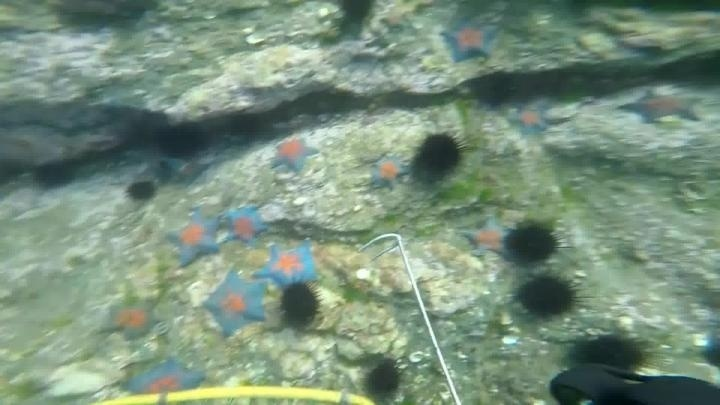echinus: (570, 330, 651, 377), (513, 270, 584, 322), (503, 219, 564, 268), (412, 129, 467, 180), (277, 280, 323, 330), (154, 120, 209, 161), (467, 69, 519, 111), (360, 356, 406, 402), (331, 1, 380, 42), (30, 157, 79, 193), (224, 109, 267, 143), (123, 177, 159, 206)
starfish: (200, 269, 269, 338), (120, 355, 207, 399), (164, 207, 224, 270), (615, 89, 705, 128), (99, 291, 165, 344), (255, 239, 322, 291), (440, 14, 502, 65), (459, 213, 516, 261), (219, 201, 270, 247), (268, 133, 321, 176), (365, 150, 411, 193), (506, 101, 555, 139), (162, 153, 213, 189)
